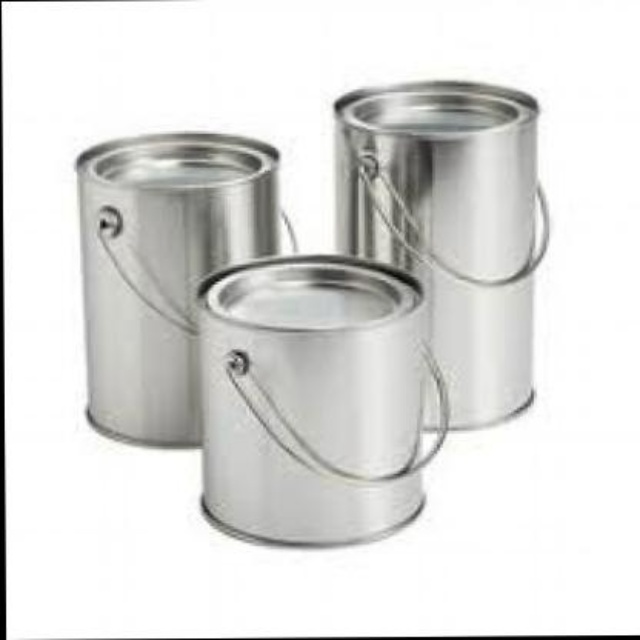trash: (335, 82, 546, 426), (198, 255, 446, 542), (77, 132, 277, 443)
